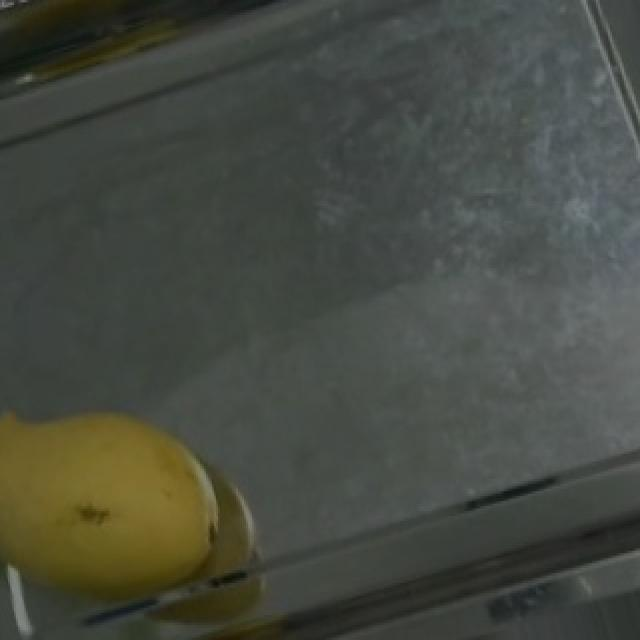fruit: (0, 362, 280, 640)
